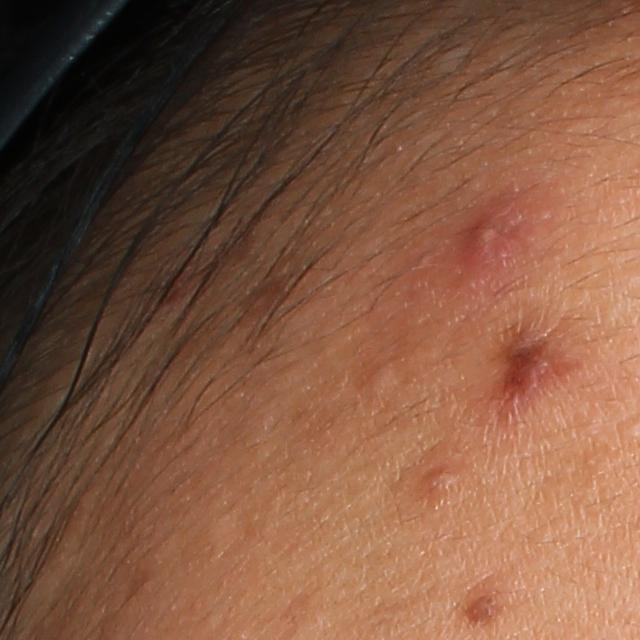comedo: (361, 358, 401, 402)
papule: (453, 192, 537, 280), (414, 455, 473, 501)
